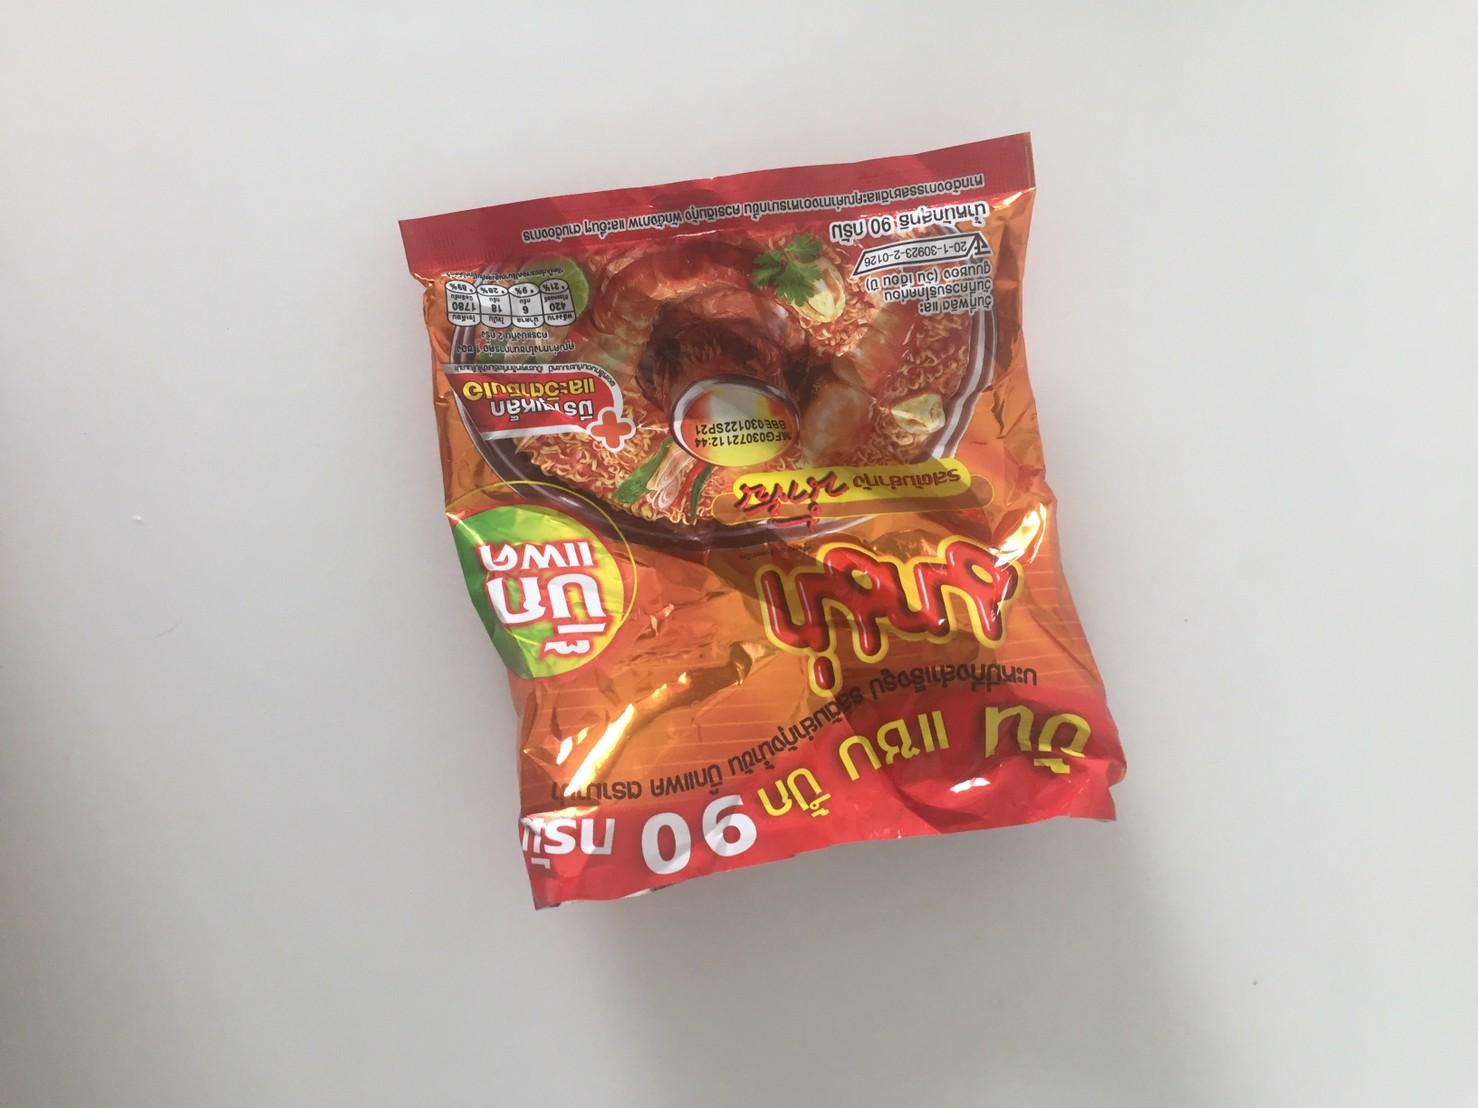plastic: (399, 115, 1141, 918)
